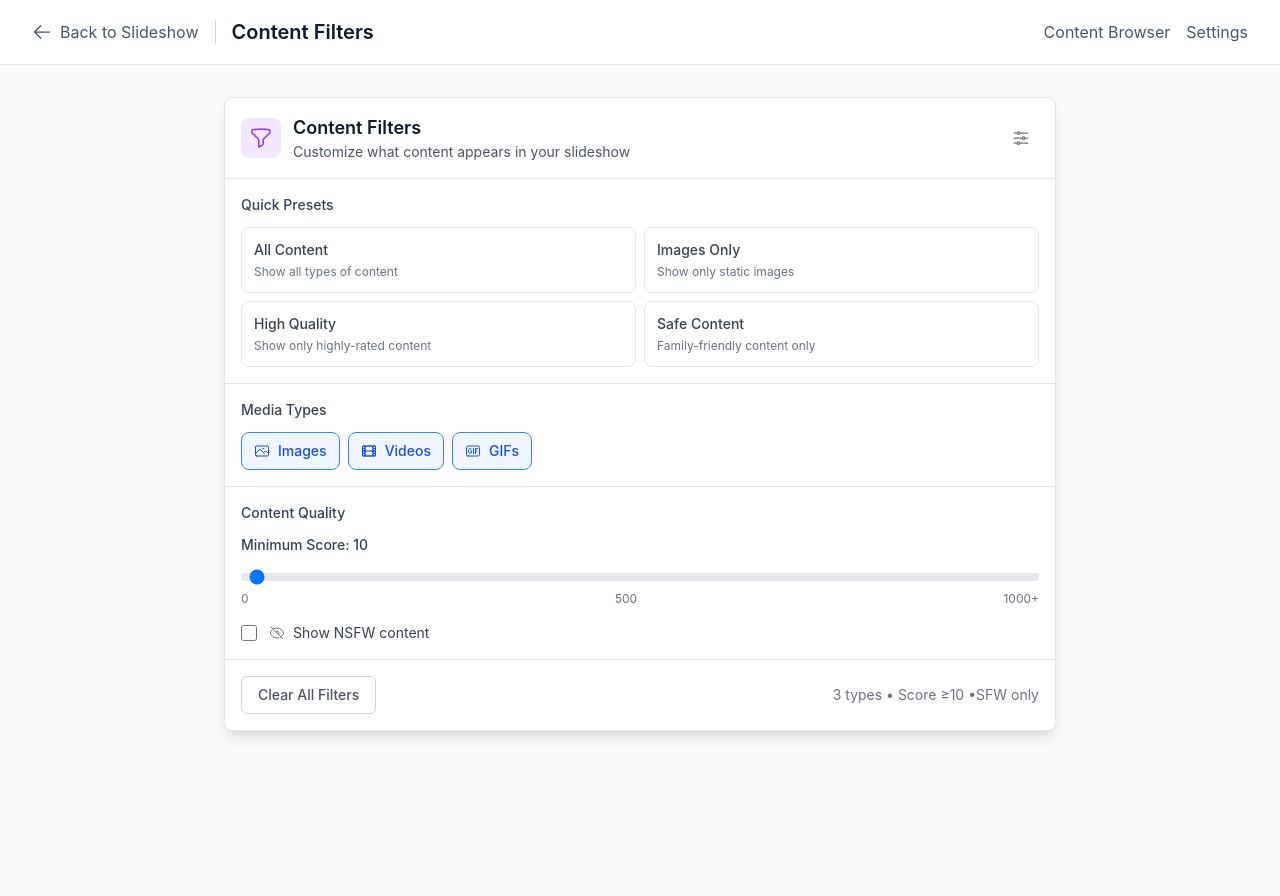
Test: ContentFilters › should display active keyword tags when keywords exist
# Open advanced filters to see keywords
Click the button titled "Advanced Filters": (1021,138) 1003,120 -> 1039,156
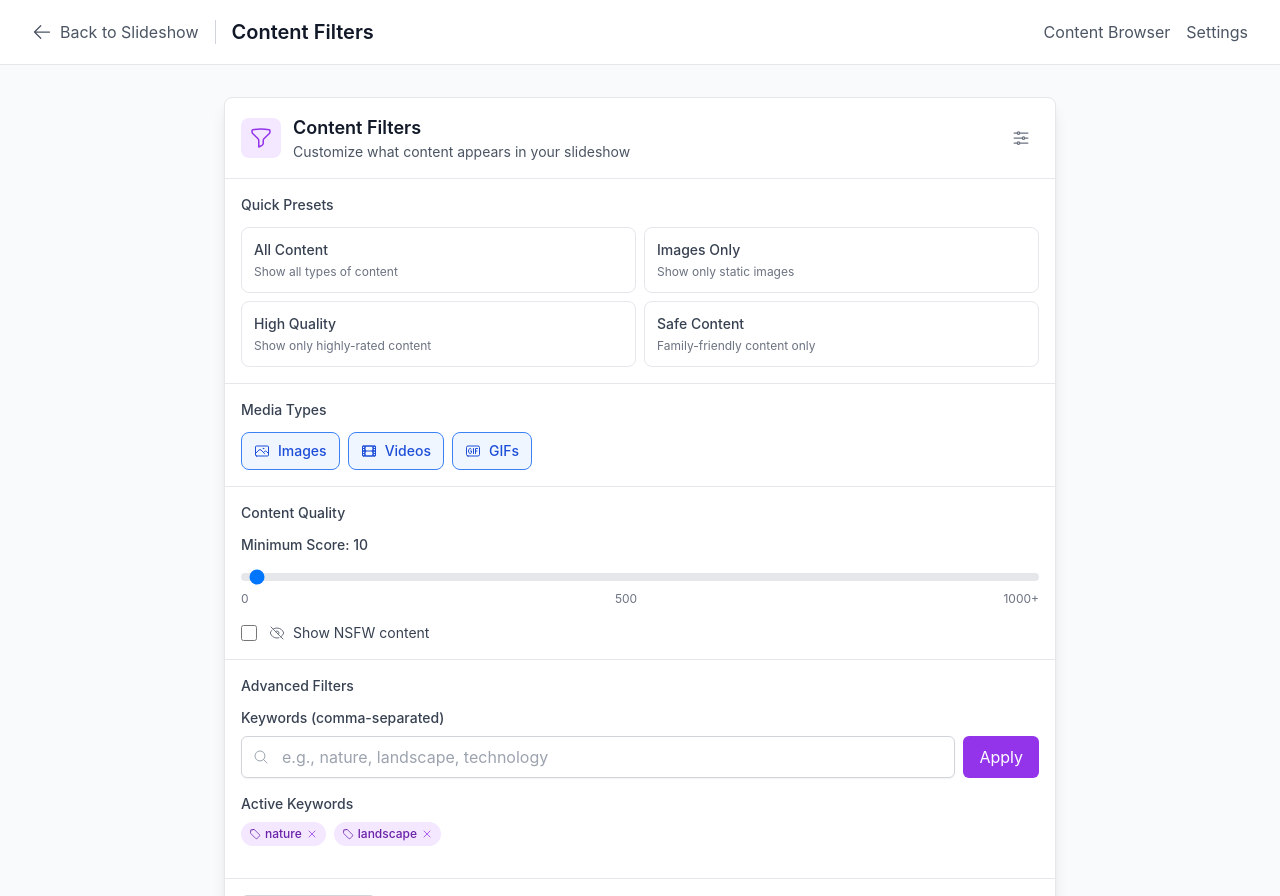
Check: the text "nature" is shown, box 241,822 -> 326,846
Check: the text "landscape" is shown, box 334,822 -> 441,846
